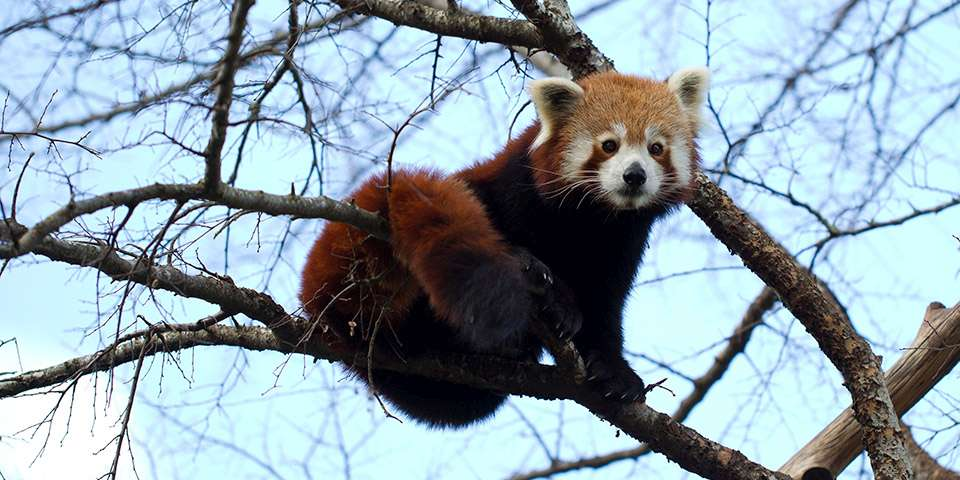red_panda: (303, 71, 732, 433)
